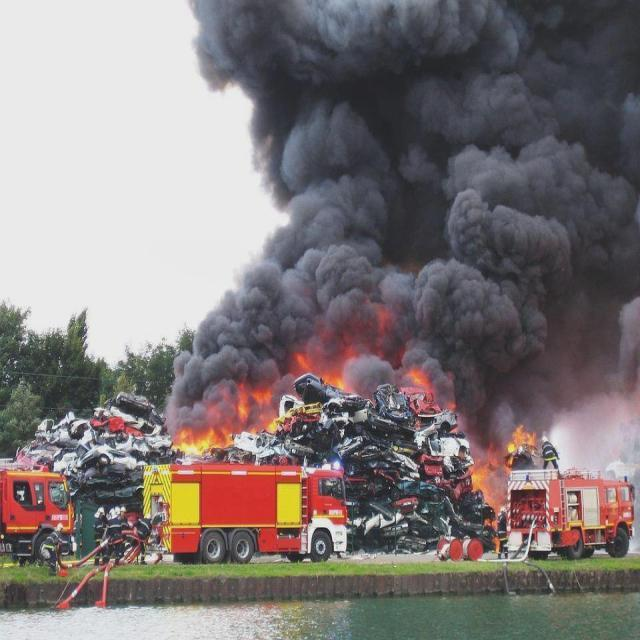Fire: (164, 378, 286, 459), (470, 418, 537, 526), (294, 338, 362, 403), (400, 364, 463, 422)
Smoke: (158, 2, 640, 338)
